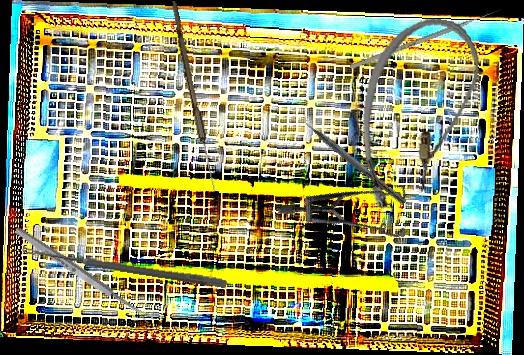Cannula: (348, 9, 487, 221)
Chopper: (294, 108, 413, 206)
Pusher: (349, 7, 503, 70)
Speculum: (276, 135, 428, 281)
Surgical Spoon: (13, 225, 154, 325), (167, 0, 220, 193), (20, 245, 228, 289)
